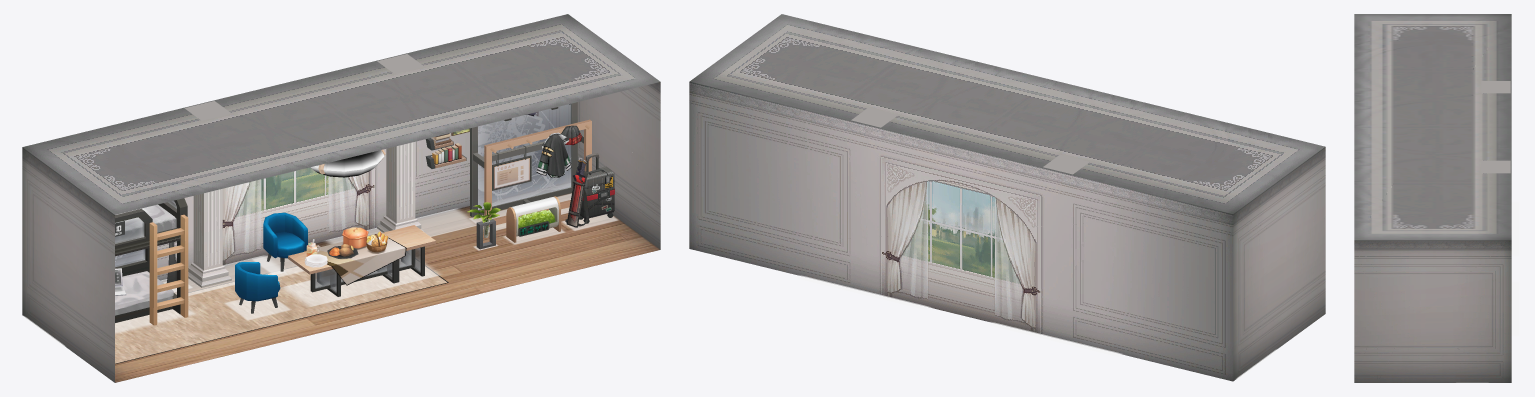
The model's file is college.glb.
3 renders of one model, left to right at view 1: azimuth 30°, elevation 25°; view 2: azimuth 150°, elevation 25°; view 3: azimuth 270°, elevation 25°, orthographic. The views are drawn at different scales.
Visible parts, largest first — view 1: ROOM_room, ROOM_floor, furni_college_carpet_01, furni_college_rack_01, furni_college_bed_01, furni_college_table_01, furni_college_rack_02, furni_college_column_01, furni_college_column_01.001, furni_college_baggage_01, shadow.004, furni_college_chair_01 (+14 smaller); view 2: ROOM_room, ROOM_LDoor, shadow.002, shadow.003, furni_college_column_01, furni_college_column_01.001; view 3: ROOM_room, ROOM_RDoor, shadow.002, shadow.003, furni_college_column_01.001, furni_college_column_01.
Part boxes in pixels (bbox=[...]): ROOM_room: bbox=[22, 14, 660, 382]; ROOM_floor: bbox=[115, 193, 660, 382]; furni_college_carpet_01: bbox=[115, 259, 448, 363]; furni_college_rack_01: bbox=[470, 102, 591, 226]; furni_college_bed_01: bbox=[115, 198, 188, 325]; furni_college_table_01: bbox=[288, 225, 435, 296]; furni_college_rack_02: bbox=[478, 104, 571, 209]; furni_college_column_01: bbox=[184, 101, 231, 287]; furni_college_column_01.001: bbox=[377, 54, 424, 232]; furni_college_baggage_01: bbox=[565, 153, 614, 227]; shadow.004: bbox=[282, 258, 441, 306]; furni_college_chair_01: bbox=[263, 212, 307, 271]; ROOM_room: bbox=[689, 14, 1325, 381]; ROOM_LDoor: bbox=[1293, 248, 1311, 337]; shadow.002: bbox=[987, 322, 1123, 356]; shadow.003: bbox=[795, 275, 931, 309]; furni_college_column_01: bbox=[1043, 154, 1089, 174]; furni_college_column_01.001: bbox=[851, 108, 897, 127]; ROOM_room: bbox=[1354, 14, 1511, 382]; ROOM_RDoor: bbox=[1377, 318, 1409, 382]; shadow.002: bbox=[1511, 201, 1519, 256]; shadow.003: bbox=[1511, 281, 1519, 336]; furni_college_column_01.001: bbox=[1481, 160, 1510, 173]; furni_college_column_01: bbox=[1481, 81, 1510, 93].
Size of the model in its own units: 7.61 by 2.2 by 2.32.
Materials: 8 (8 with a texture image).
